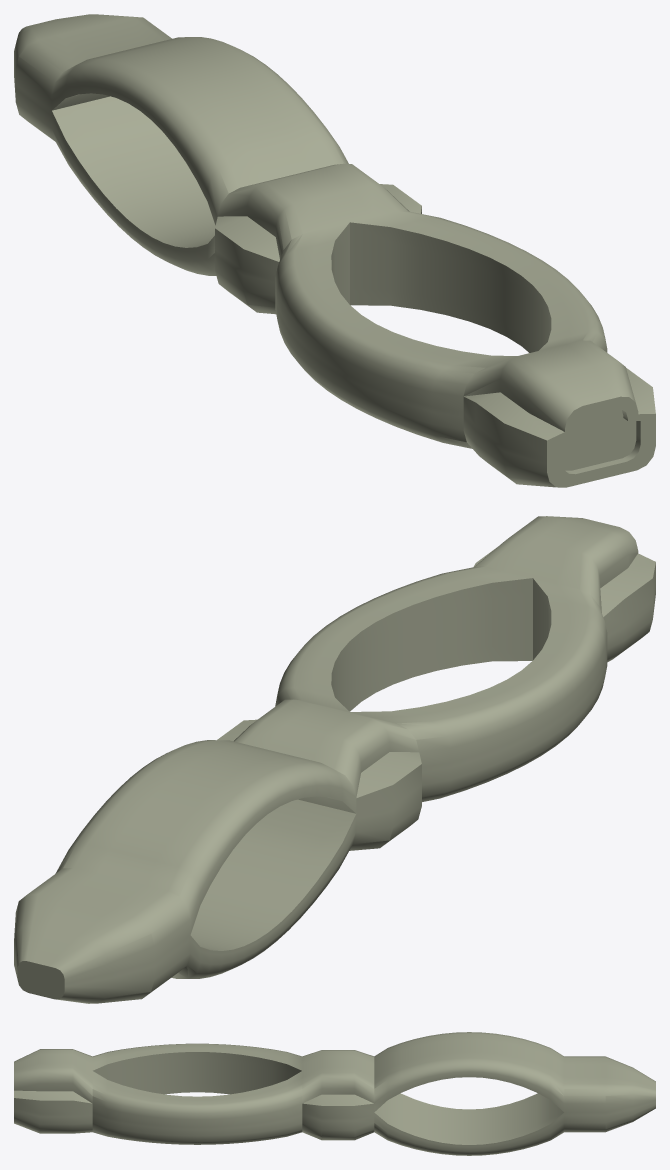
File: kelvane_battlecruiser.glb
The picture shows the model from 3 angles, top to bottom: view 1: azimuth 30°, elevation 25°; view 2: azimuth 150°, elevation 25°; view 3: azimuth 270°, elevation 25°; orthographic projection. The views are drawn at different scales.
Visible parts, largest first — view 1: hull; view 2: hull; view 3: hull.
Part boxes in pixels (<box>): hull: <box>14,14,655,487</box>; hull: <box>14,516,655,1003</box>; hull: <box>14,1032,655,1155</box>.
Size of the model in its own units: 49.13 by 32.5 by 196.
